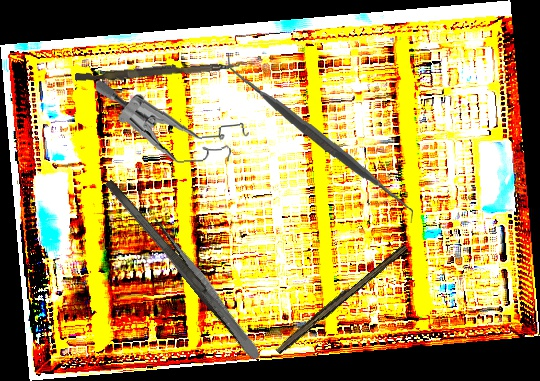Dressing Forceps: (142, 215, 266, 363)
Pusher: (74, 56, 241, 86)
Scalpel Handle: (273, 240, 409, 357)
Spatula Surgical: (226, 46, 414, 230), (103, 177, 251, 345)
Speculum: (95, 71, 251, 170)
